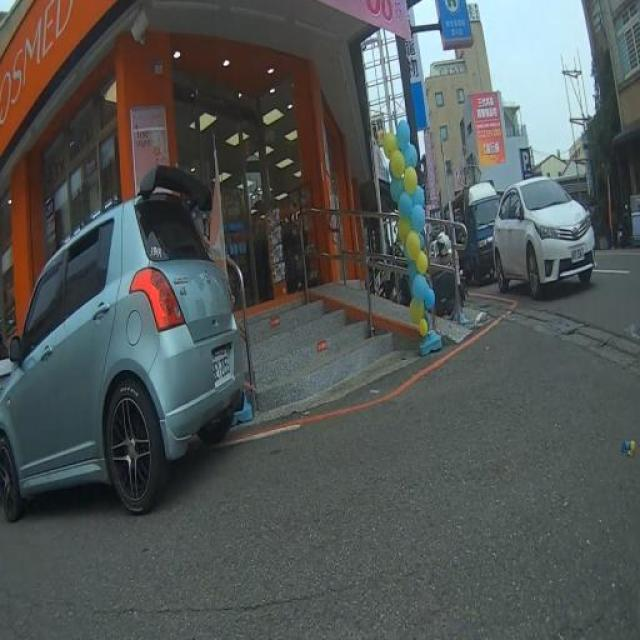illegalparking: (0, 192, 245, 511), (454, 178, 594, 296)
